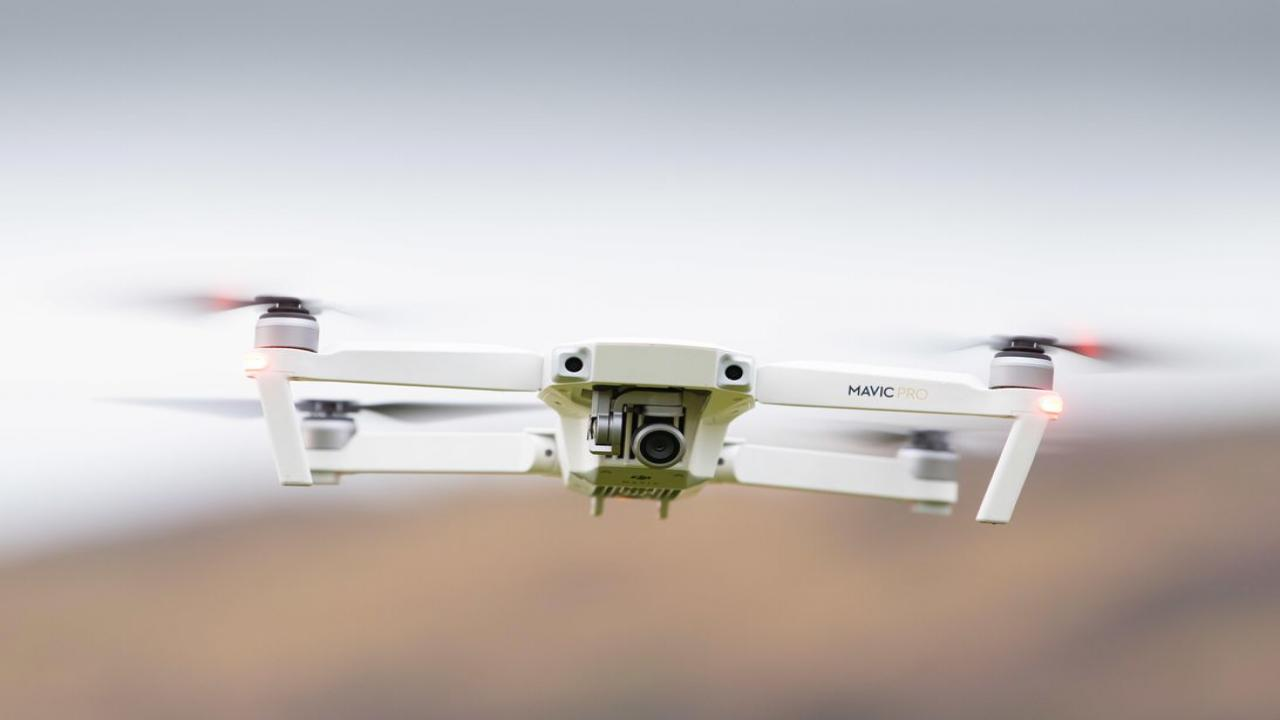Drone: (71, 277, 1270, 534)
